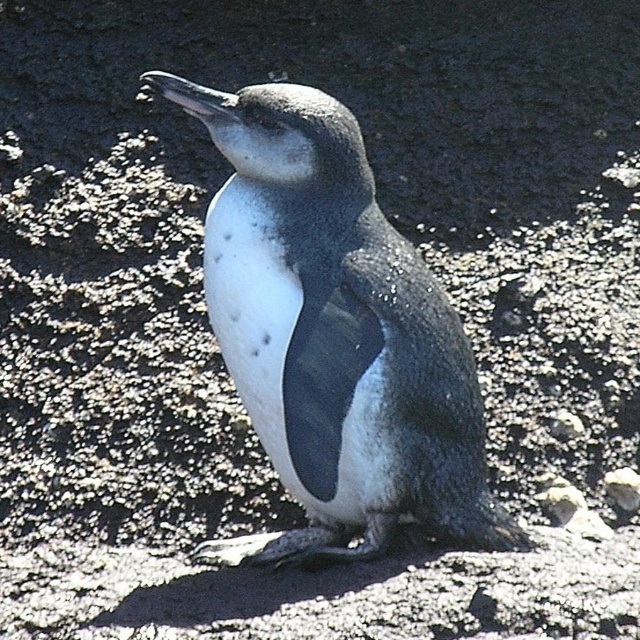Penguin: (138, 69, 542, 574)
